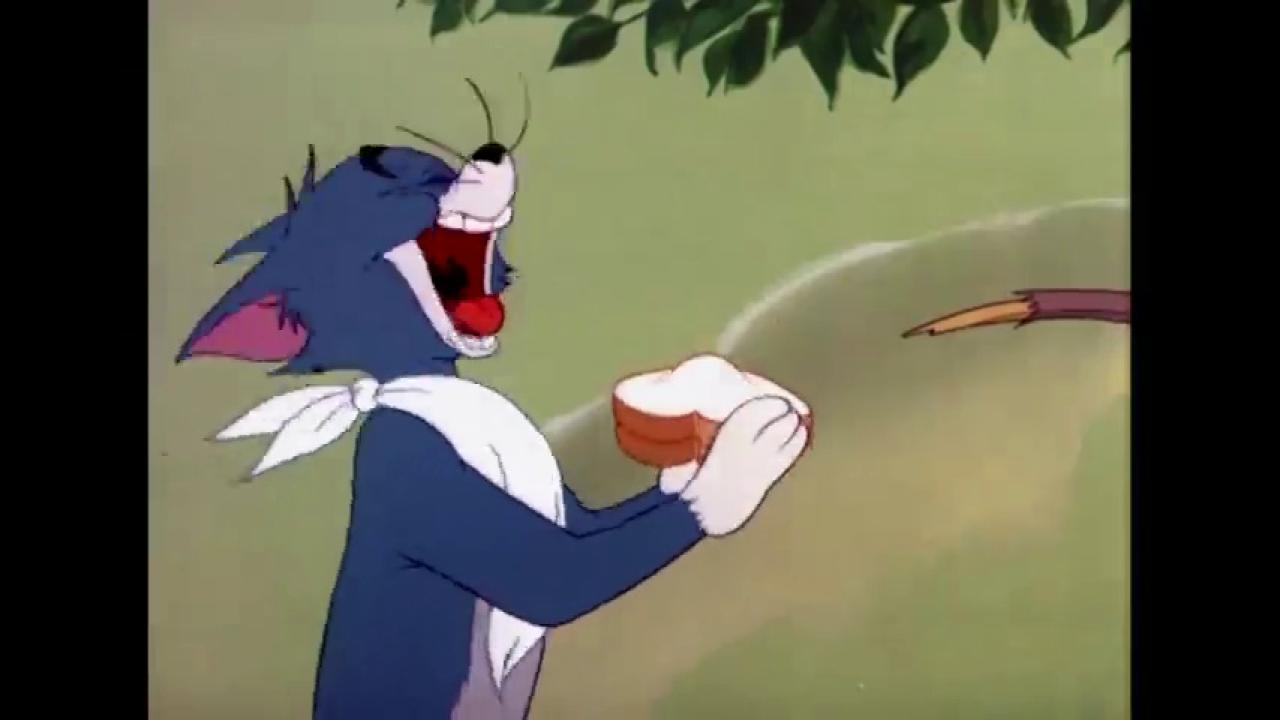Tom: (174, 129, 811, 720)
